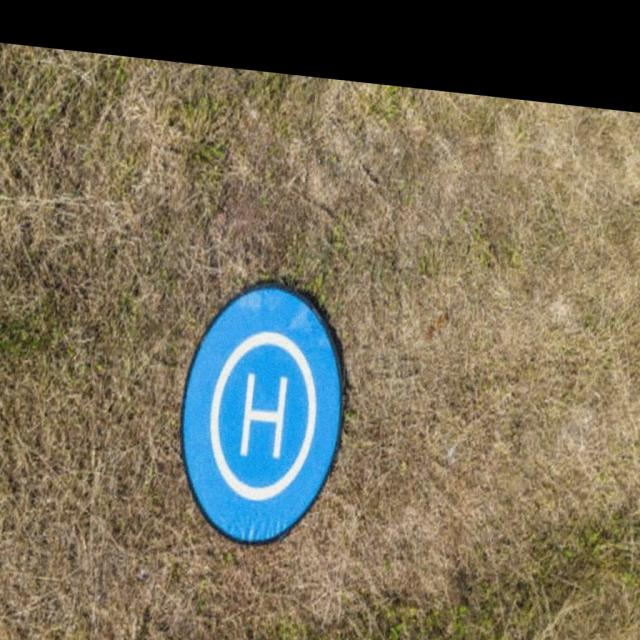helipad: (204, 328, 324, 502)
